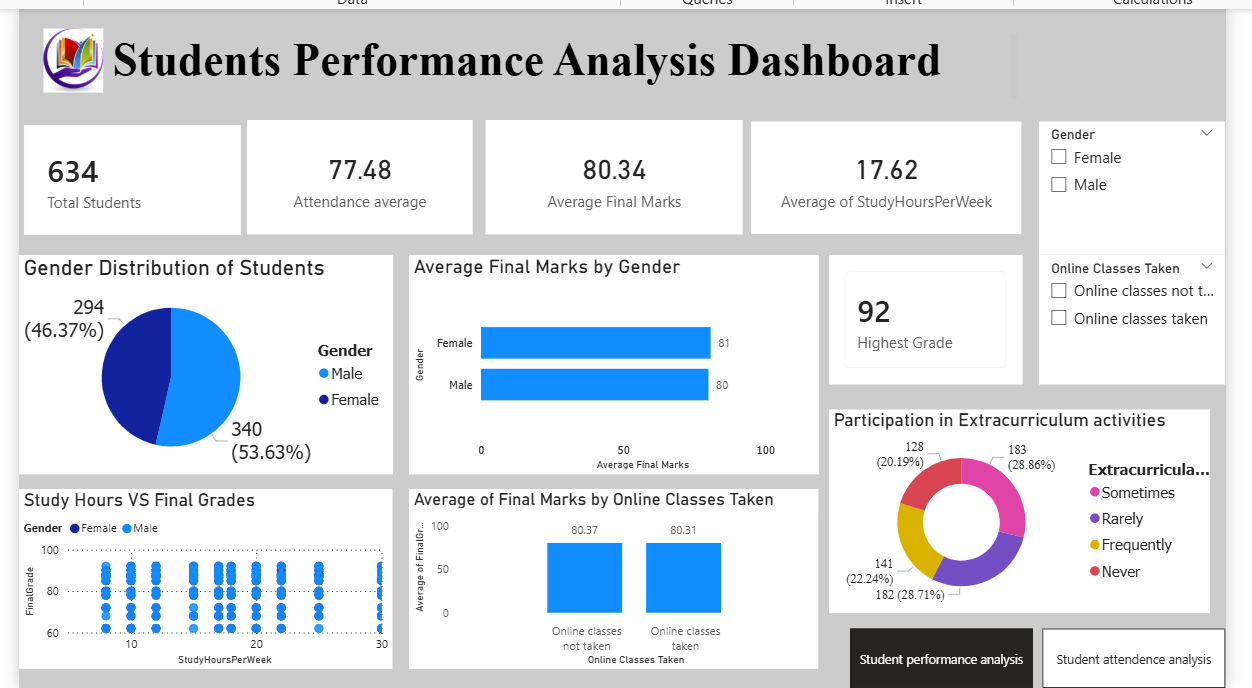

The page's visual inventory and layout, read from the dashboard file:
{"tool":"powerbi","page":{"name":"Student performance analysis","canvas":[1280,720],"ordinal":0},"visuals":[{"type":"cardVisual","fields":{"Data":["student_performance_updated_1000.Total Students"]},"box":[0,117.5,241,127.5],"z":0},{"type":"pieChart","title":"Gender Distribution of Students","fields":{"Category":["student_performance_updated_1000.Gender"],"Y":["student_performance_updated_1000.Total Students"]},"box":[0,260.8,396.9,232.4],"z":1000},{"type":"card","fields":{"Values":["student_performance_updated_1000.Attendance average"]},"box":[241,117.5,239,121.5],"z":2000},{"type":"card","fields":{"Values":["student_performance_updated_1000.Final Average Marks"]},"box":[493.9,117.5,272.9,121.5],"z":3000},{"type":"card","fields":{"Values":["Avg(student_performance_updated_1000.StudyHoursPerWeek)"]},"box":[776.8,119.5,286.8,119.5],"z":4000},{"type":"donutChart","title":"Participation in Extracurriculum activities","fields":{"Category":["student_performance_updated_1000.ExtracurricularActivities"],"Y":["student_performance_updated_1000.Total Students"]},"box":[858.9,424.7,404,216.3],"z":5000},{"type":"barChart","fields":{"Category":["student_performance_updated_1000.Gender"],"Y":["student_performance_updated_1000.Average Final Marks"]},"box":[413.9,260.8,434.6,232.4],"z":6000},{"type":"image","box":[0,20.8,115.3,68],"z":7000},{"type":"columnChart","title":"Average of Final Marks  by Online Classes Taken","fields":{"Category":["student_performance_updated_1000.Online Classes Taken"],"Y":["Avg(student_performance_updated_1000.FinalGrade)"]},"box":[413.6,509,434.2,190.9],"z":8000},{"type":"textbox","box":[93.8,20.7,970.3,81.1],"z":9000},{"type":"scatterChart","title":"Study Hours  VS Final Grades","fields":{"X":["student_performance_updated_1000.StudyHoursPerWeek"],"Y":["student_performance_updated_1000.FinalGrade"],"Series":["student_performance_updated_1000.Gender"]},"box":[0,509,396.1,190.9],"z":10000},{"type":"slicer","fields":{"Values":["student_performance_updated_1000.Gender"]},"box":[1081.5,119.5,197.2,141.4],"z":11000},{"type":"slicer","fields":{"Values":["student_performance_updated_1000.Online Classes Taken"]},"box":[1081.5,260.9,197.2,137.4],"z":12000},{"type":"pageNavigator","box":[881.2,656.9,399.2,63.6],"z":13000},{"type":"cardVisual","fields":{"Data":["student_performance_updated_1000.Highest Grade"]},"box":[858.4,260.9,205.1,137.4],"z":13001}]}

Visuals, with their boxes on the page's 1280x720 design canvas (x1, y1, x2, y2). These are canvas units, not pixel positions in the 1252x688 screenshot, which may show the page scaled, cropped or inside an application window:
cardVisual - student_performance_updated_1000.Total Students: l=0, t=118, r=241, b=245
"Gender Distribution of Students" pieChart: l=0, t=261, r=397, b=493
card - student_performance_updated_1000.Attendance average: l=241, t=118, r=480, b=239
card - student_performance_updated_1000.Final Average Marks: l=494, t=118, r=767, b=239
card - Avg(student_performance_updated_1000.StudyHoursPerWeek): l=777, t=120, r=1064, b=239
"Participation in Extracurriculum activities" donutChart: l=859, t=425, r=1263, b=641
barChart - student_performance_updated_1000.Gender x student_performance_updated_1000.Average Final Marks: l=414, t=261, r=848, b=493
image: l=0, t=21, r=115, b=89
"Average of Final Marks  by Online Classes Taken" columnChart: l=414, t=509, r=848, b=700
textbox: l=94, t=21, r=1064, b=102
"Study Hours  VS Final Grades" scatterChart: l=0, t=509, r=396, b=700
slicer - student_performance_updated_1000.Gender: l=1082, t=120, r=1279, b=261
slicer - student_performance_updated_1000.Online Classes Taken: l=1082, t=261, r=1279, b=398
pageNavigator: l=881, t=657, r=1280, b=720
cardVisual - student_performance_updated_1000.Highest Grade: l=858, t=261, r=1064, b=398
